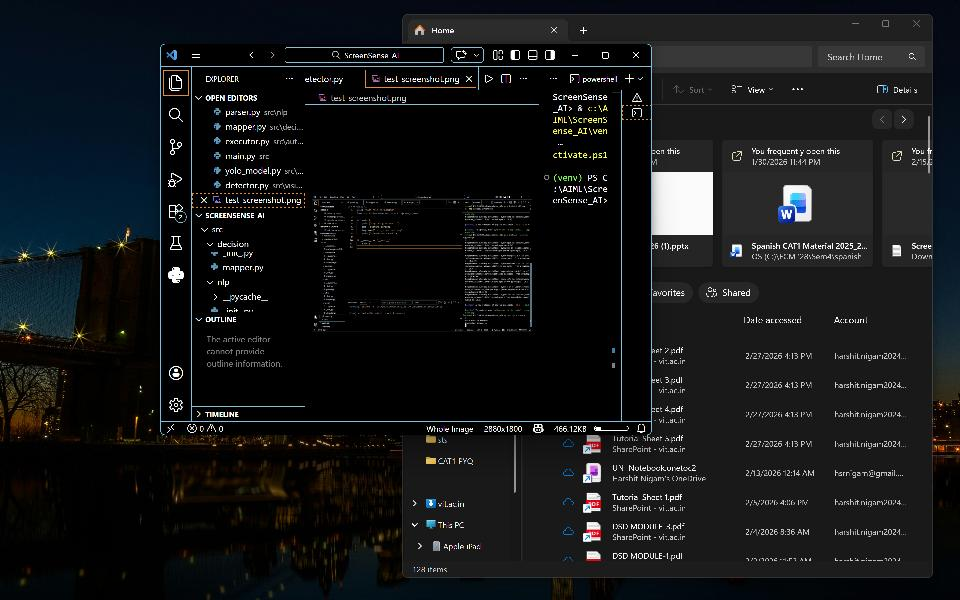close_button: (907, 16, 928, 34), (628, 47, 645, 66)
maximize_button: (595, 46, 617, 63), (877, 16, 895, 33)
minimize_button: (846, 16, 867, 33), (566, 46, 584, 64)
